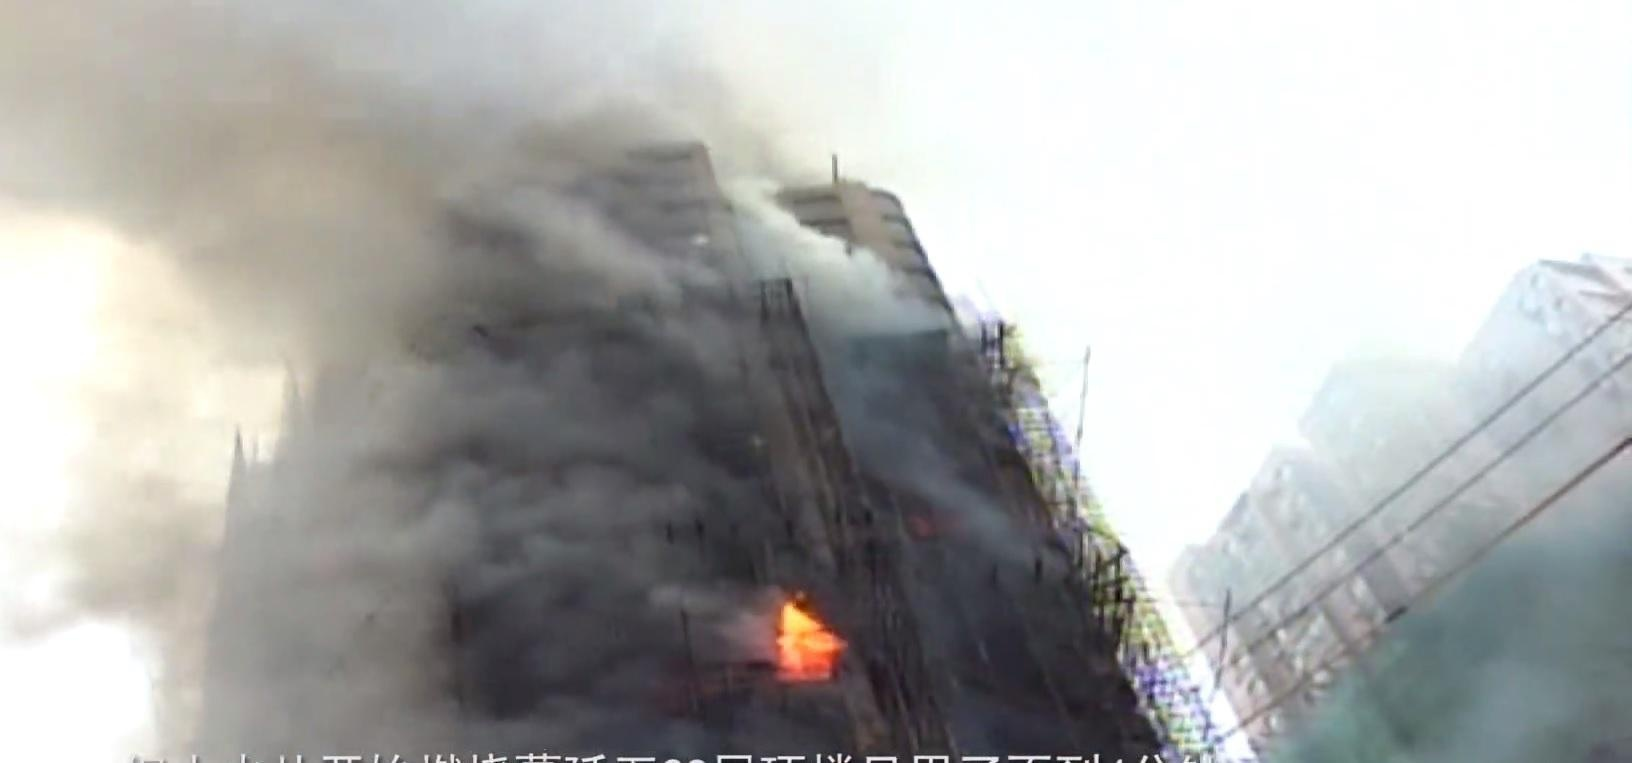fire: (771, 590, 844, 675)
